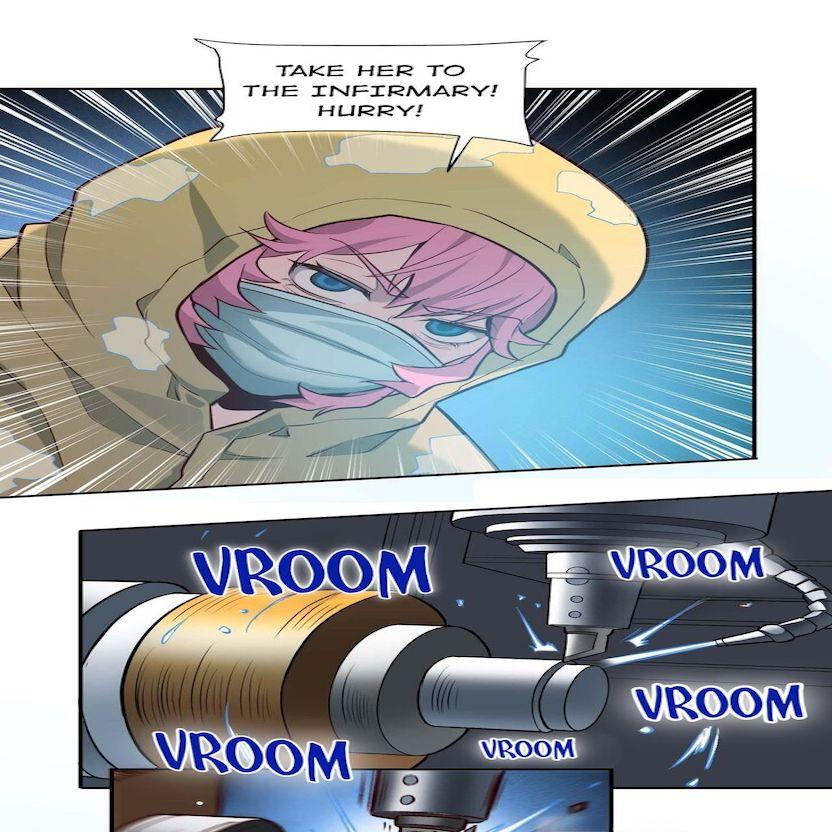Bubble: (195, 36, 548, 144)
